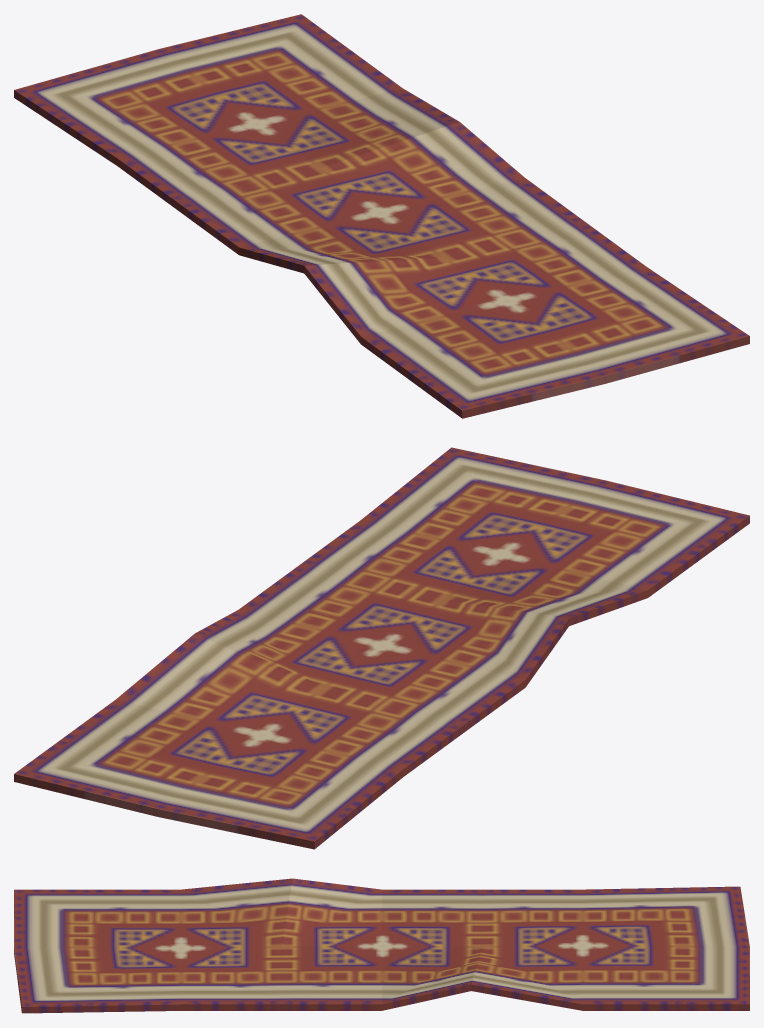
Rendered from SM_Prop_Rug_02.fbx.
3 views of the same model, one above another, from view 1: azimuth 30°, elevation 25°; view 2: azimuth 150°, elevation 25°; view 3: azimuth 270°, elevation 25° (orthographic). The views are drawn at different scales.
Visible parts, largest first — view 1: SM_Prop_Rug_02; view 2: SM_Prop_Rug_02; view 3: SM_Prop_Rug_02.
Boxes of the visible parts, x1,y1,x2,y2 form: SM_Prop_Rug_02: [14, 14, 749, 418]; SM_Prop_Rug_02: [14, 447, 749, 849]; SM_Prop_Rug_02: [14, 878, 749, 1013].
Size of the model in its own units: 164 by 13.87 by 423.
